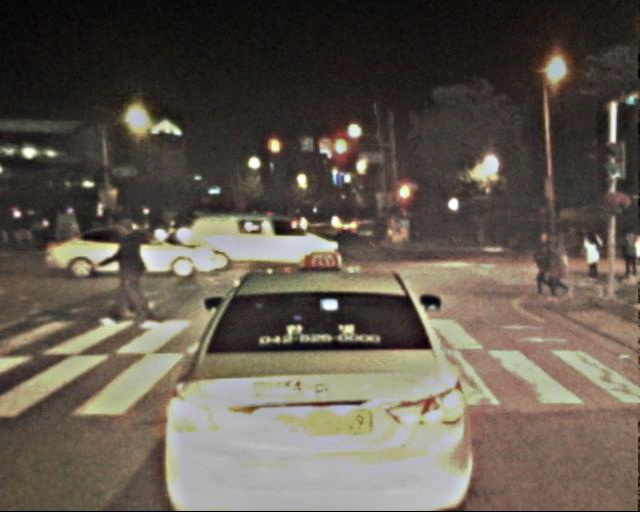person: (107, 215, 153, 326), (546, 229, 576, 303), (535, 234, 562, 300), (581, 227, 604, 283), (618, 227, 640, 281)
